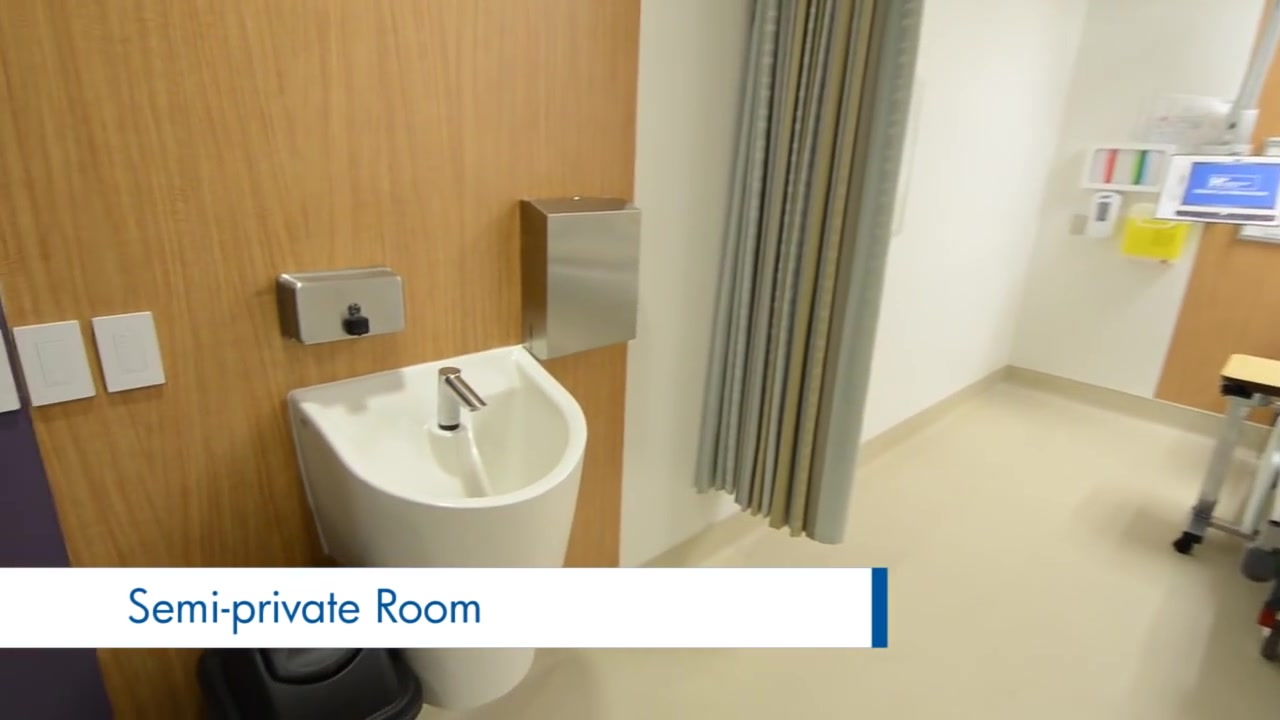bedside_monitor: (1181, 161, 1280, 210)
curtain: (691, 1, 924, 544)
dispenser: (518, 194, 642, 361), (1085, 141, 1166, 191), (1084, 191, 1124, 239)
faucet: (437, 366, 487, 431)
medical_waste_container: (1125, 203, 1185, 263)
overbed_table: (1173, 353, 1280, 554)
sink: (306, 344, 575, 500)
waste_bin: (196, 648, 424, 720)
